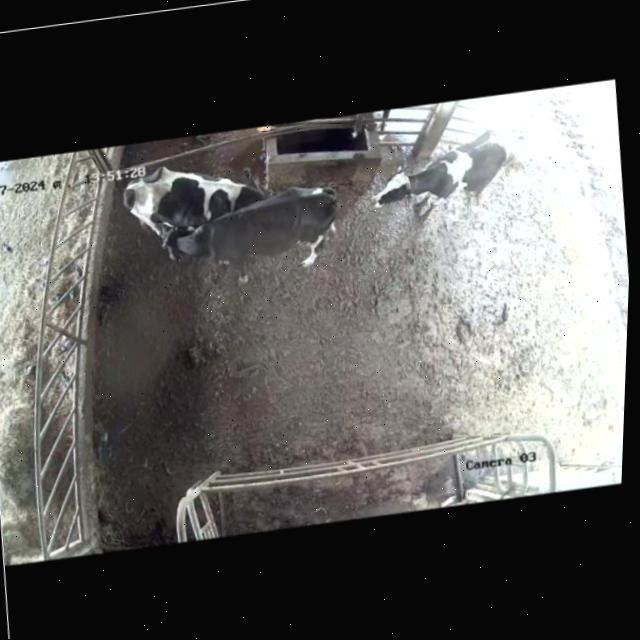stand: (132, 180, 366, 302), (356, 123, 528, 242), (102, 149, 281, 241)
